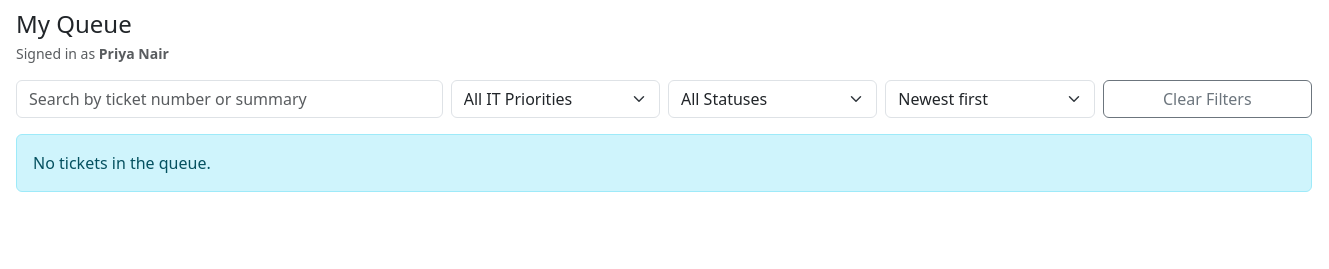
Test: StaffQueue › shows a no-results state distinct from the empty state when a search matches nothing
The width and height of the screenshot is (1329, 269).
In the field with placeholder "Search by ticket number or summary": x=229, y=99 [16,80,443,118], type "nonexistent"
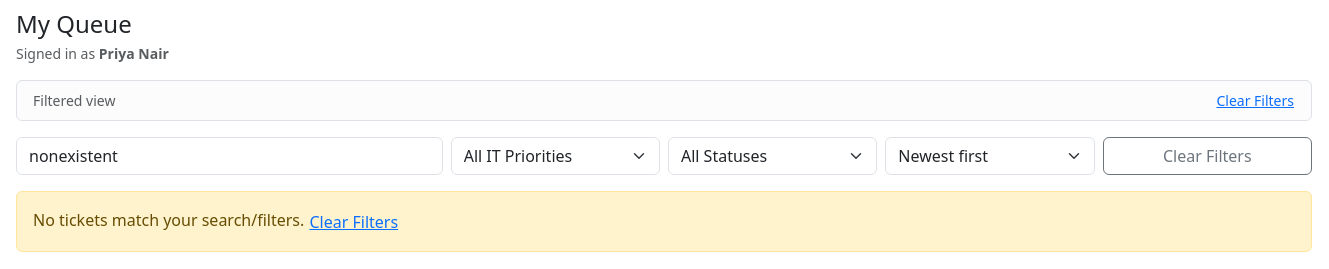
Result: the text "No tickets match your search/filters. Clear Filters" is shown at [16,191,1312,252]
